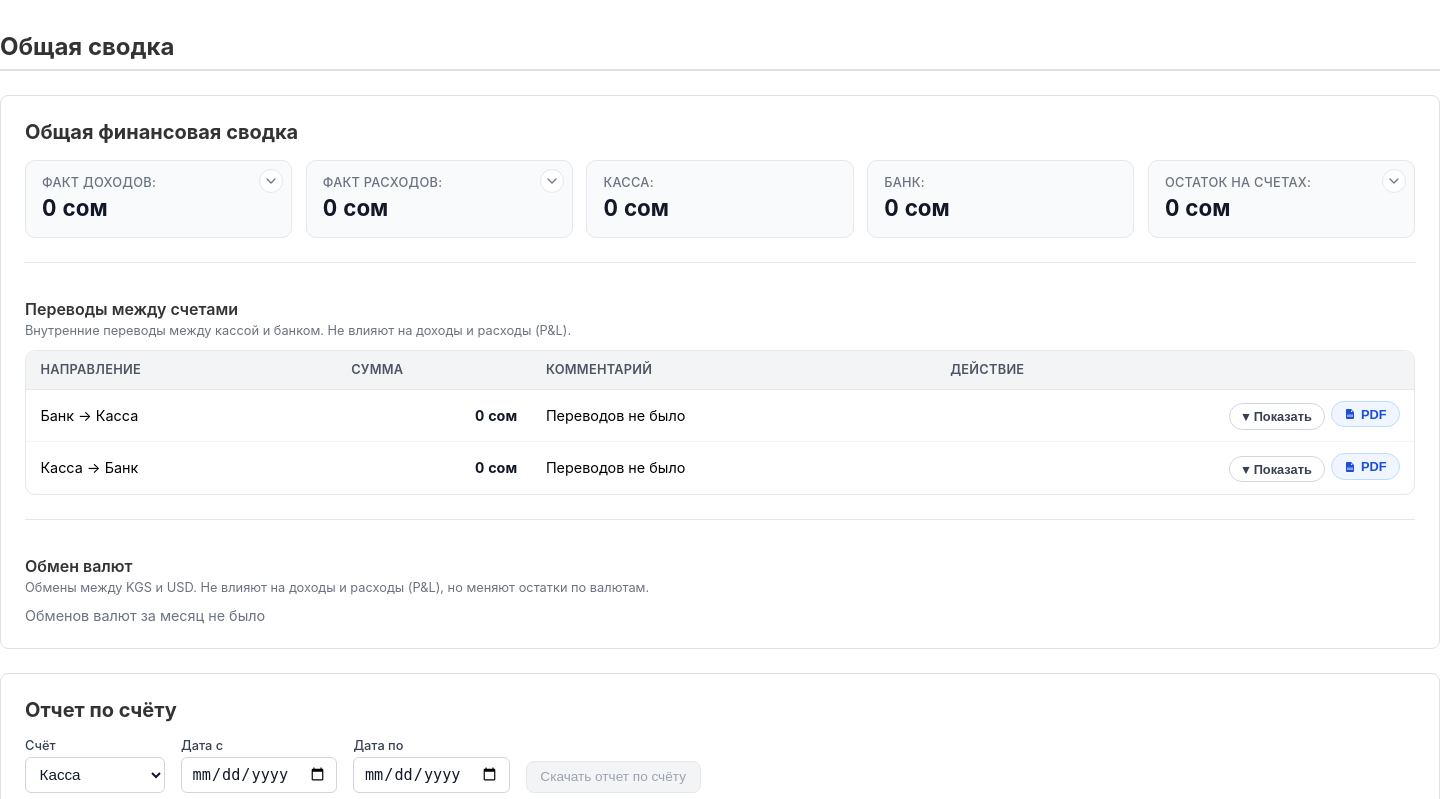
GlobalSummary section PDF export › detail range outside parent range shows validation error
The width and height of the screenshot is (1440, 799).
Click the button named "Показать детализацию расходов по категориям".
click(552, 181)  # box [540, 169, 564, 193]
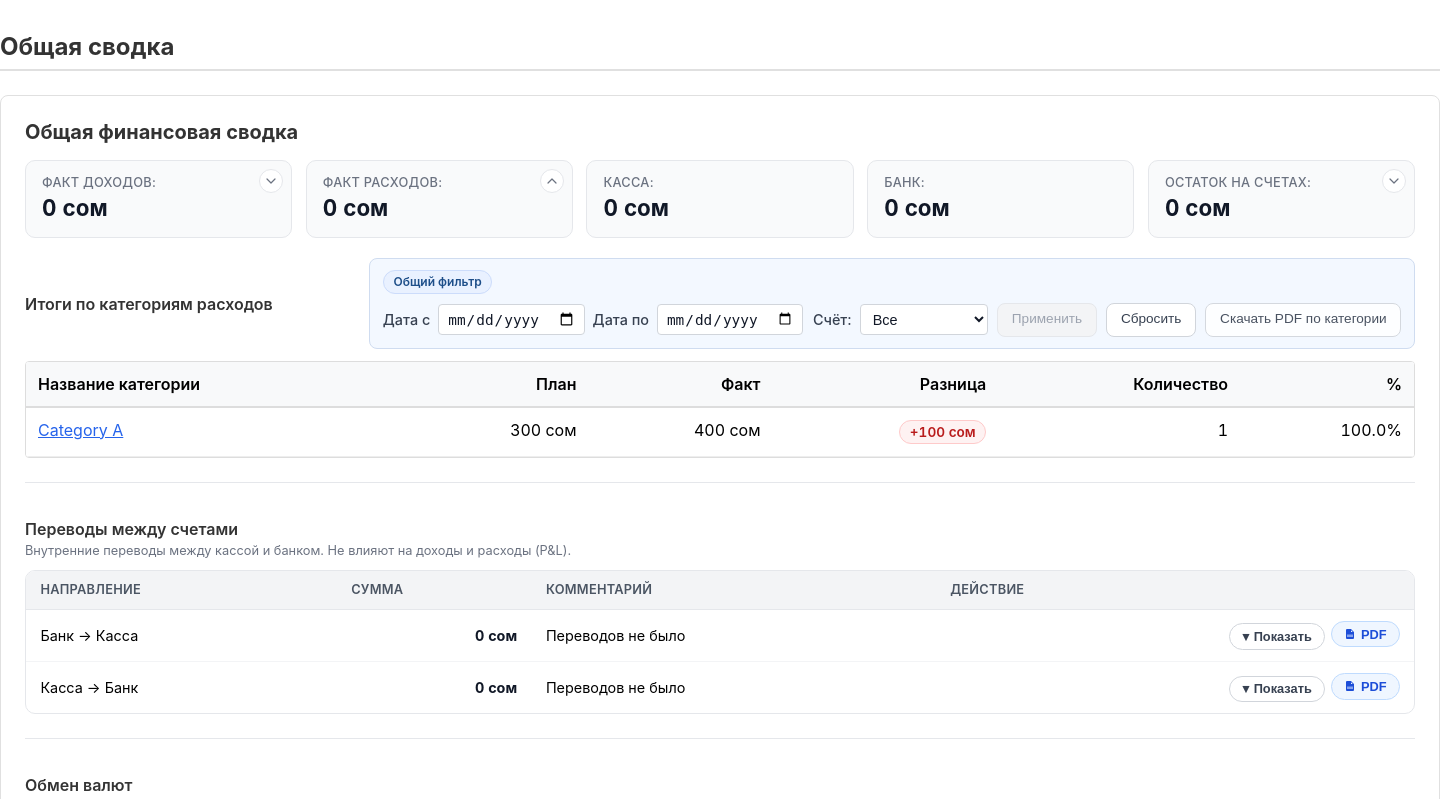
Check: the text "Итоги по категориям расходов" is shown, box [25, 294, 273, 314]
Type "2026-03-01" into the date field labelled "Дата с".
click(511, 320); type("2026-03-01")  # box [438, 304, 585, 335]
Type "2026-03-30" into the date field labelled "Дата по".
click(730, 320); type("2026-03-30")  # box [657, 304, 803, 335]
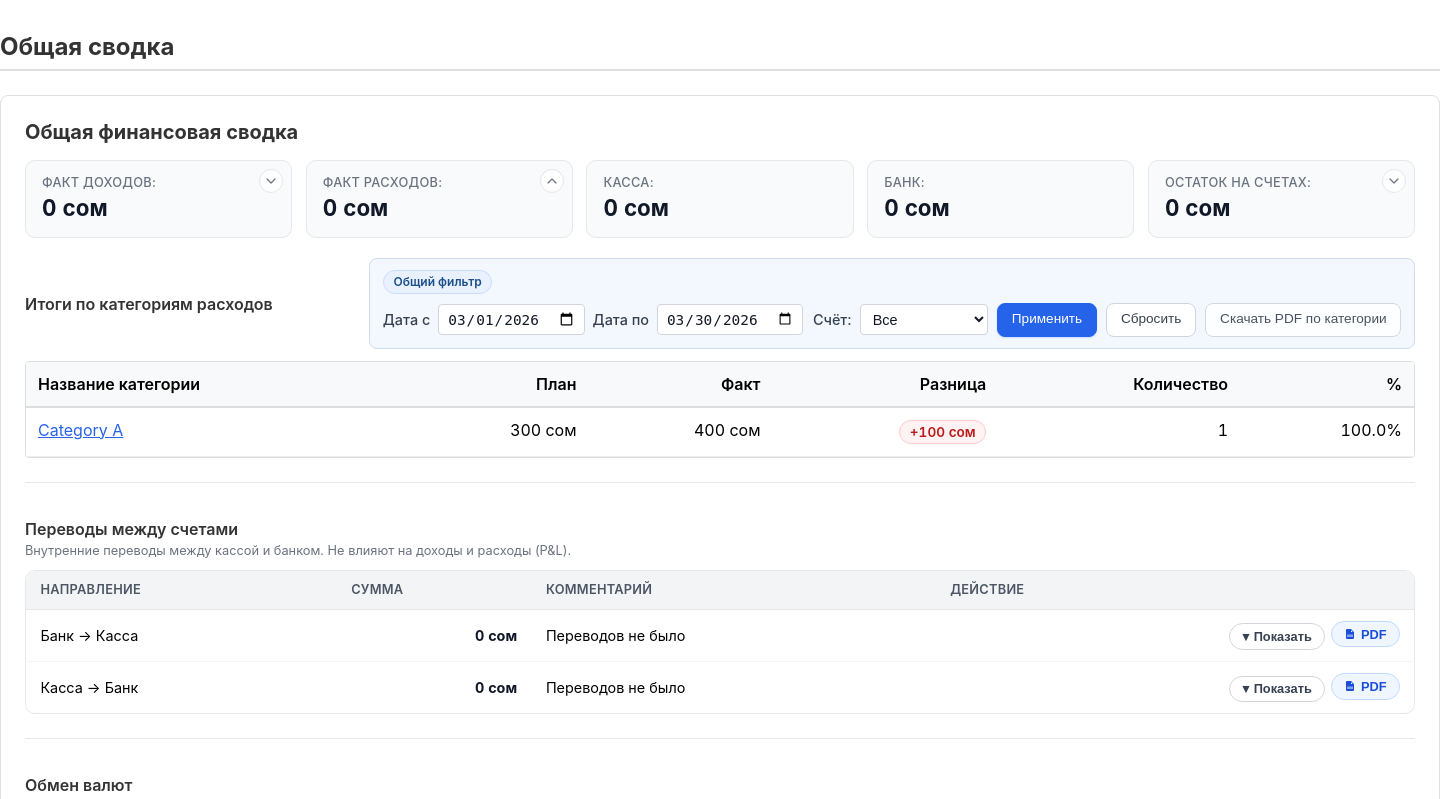
Click the button "Применить".
click(1047, 320)  # box [997, 303, 1097, 337]
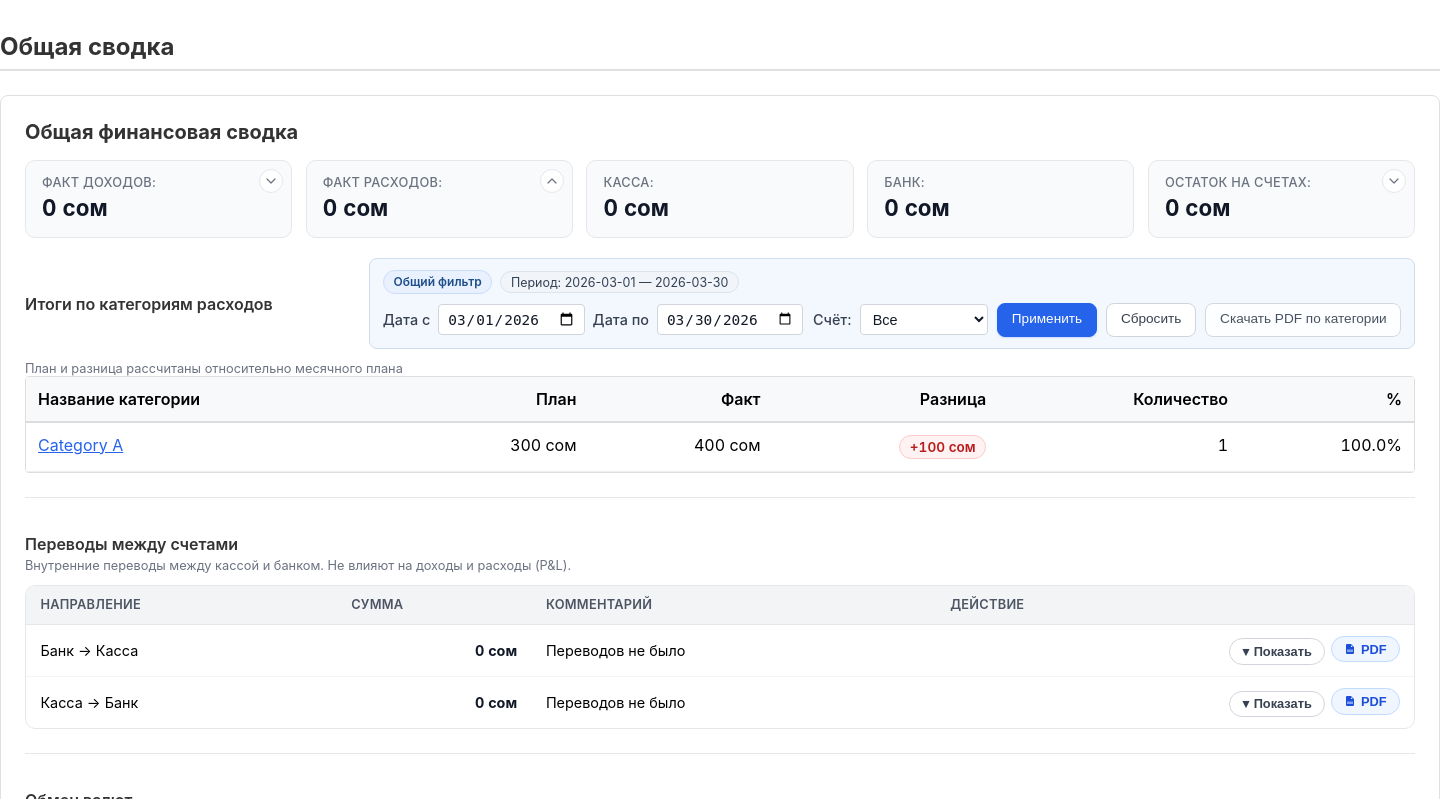
Click the button "Category A".
click(81, 445)  # box [38, 435, 123, 455]
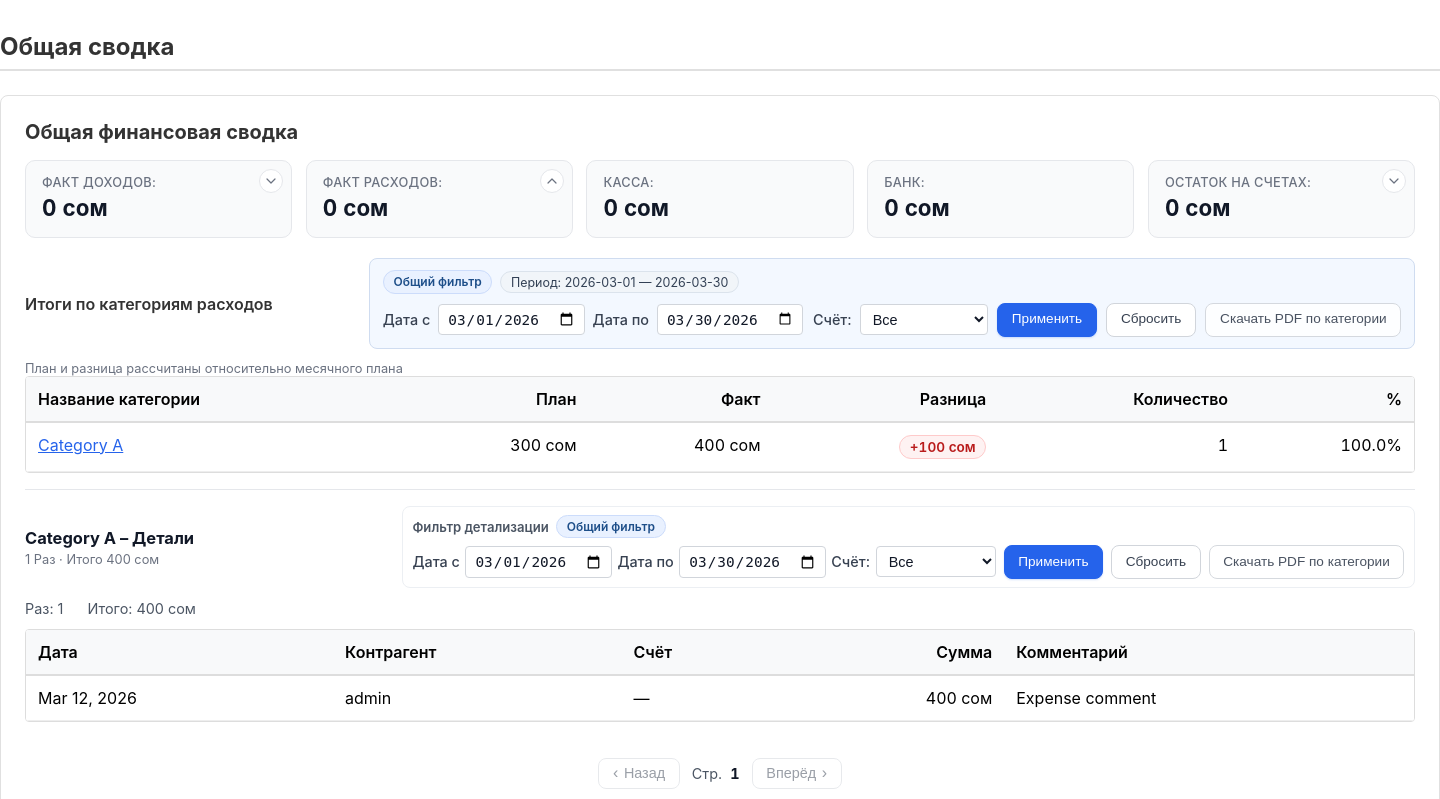
Check: the element with class "global-summary-expense-details" is shown, box [25, 489, 1415, 797]
Type "2026-04-01" into the date field labelled "Дата с" below "Фильтр детализации".
click(539, 562); type("2026-04-01")  # box [465, 546, 612, 578]
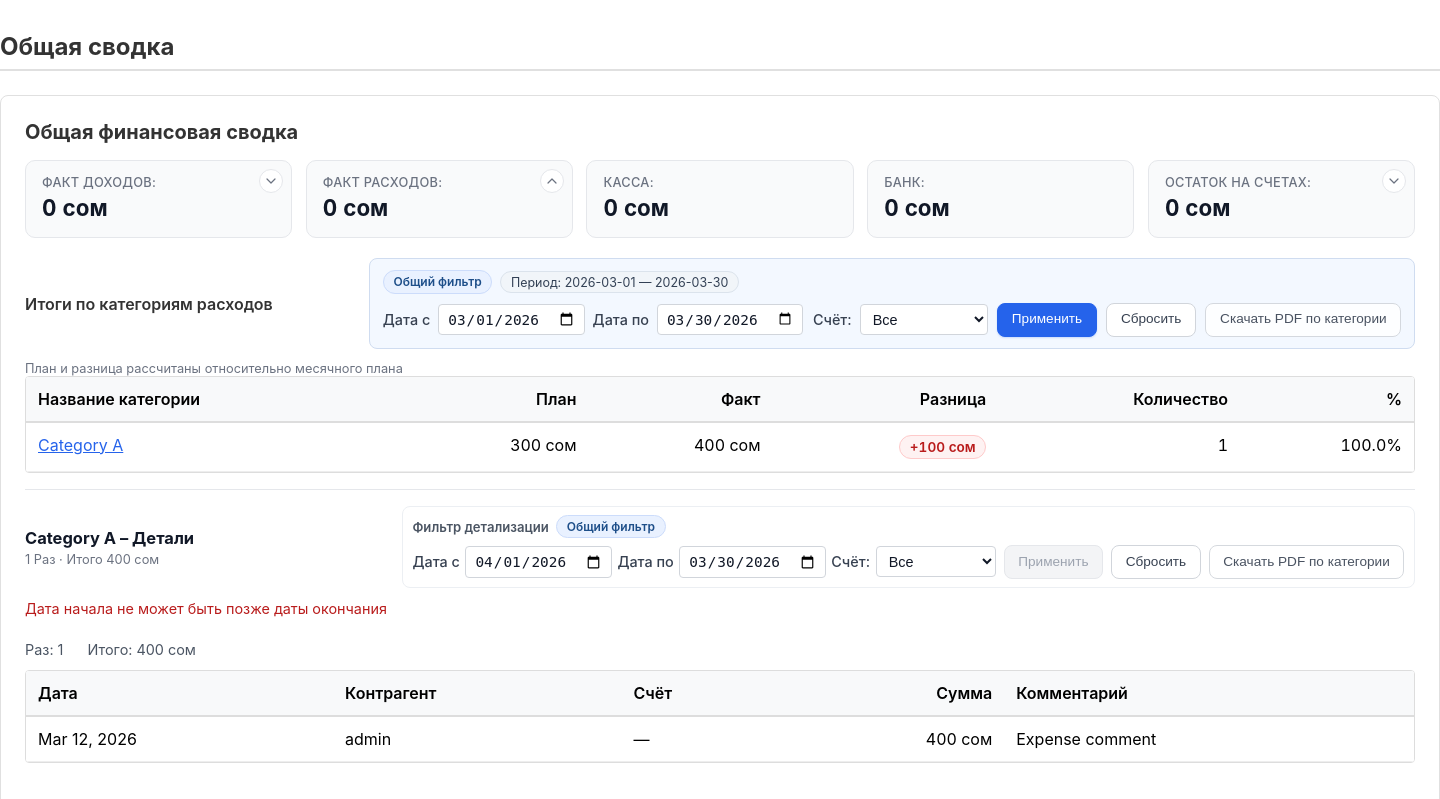
Type "2026-04-05" into the date field labelled "Дата по" below "Фильтр детализации".
click(752, 562); type("2026-04-05")  # box [679, 546, 826, 578]
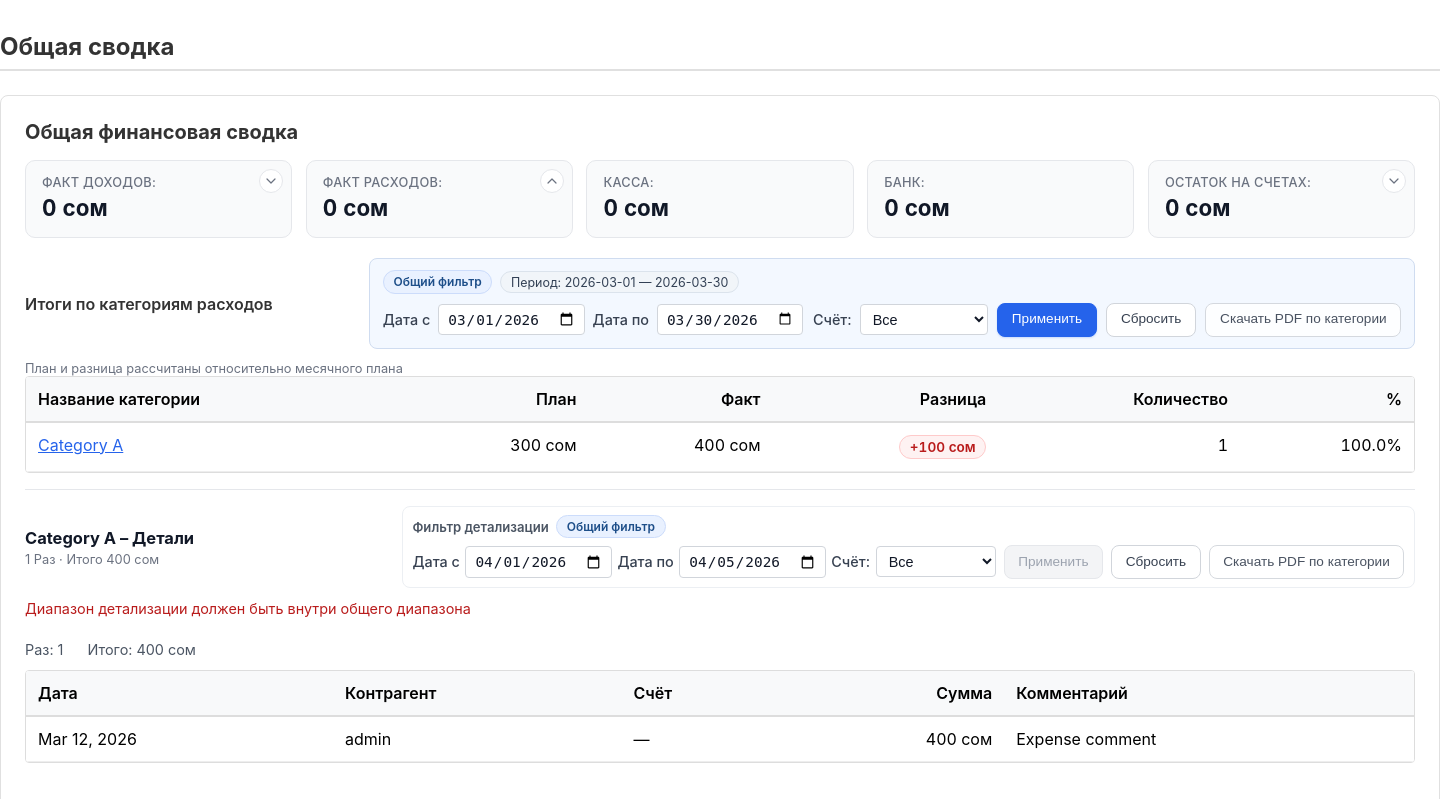
Check: the 2nd button "Применить" is disabled, box [1004, 545, 1103, 579]
Check: the text "Диапазон детализации должен быть внутри общего диапазона" is shown, box [25, 600, 471, 617]
